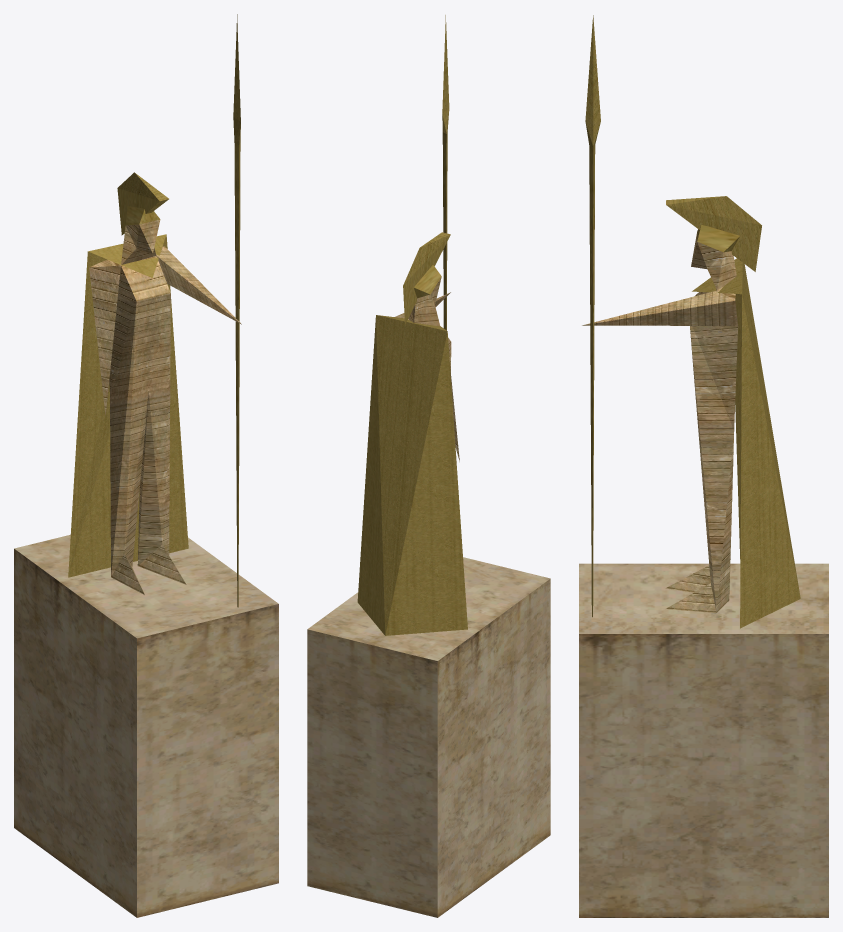
Rendered from mun_tato_guild_statue_freestand_s01_l2.fbx.
3 renders of one model, left to right at view 1: azimuth 30°, elevation 25°; view 2: azimuth 150°, elevation 25°; view 3: azimuth 270°, elevation 25°, orthographic. The views are drawn at different scales.
Visible parts, largest first — view 1: mesh_node; view 2: mesh_node; view 3: mesh_node.
Part boxes in pixels (x1=…): mesh_node: x1=14, y1=14, x2=278, y2=917; mesh_node: x1=307, y1=15, x2=550, y2=917; mesh_node: x1=579, y1=15, x2=828, y2=917.
Bounding box in the file's own units: 2 × 11.75 × 3.
